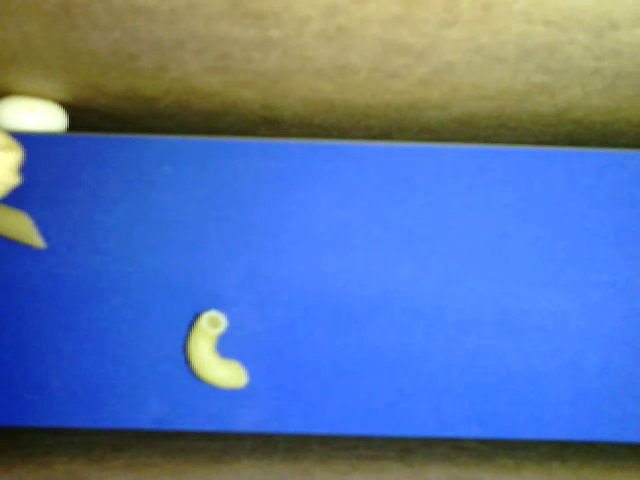elbow: (188, 309, 248, 389)
penne: (1, 204, 47, 247)
